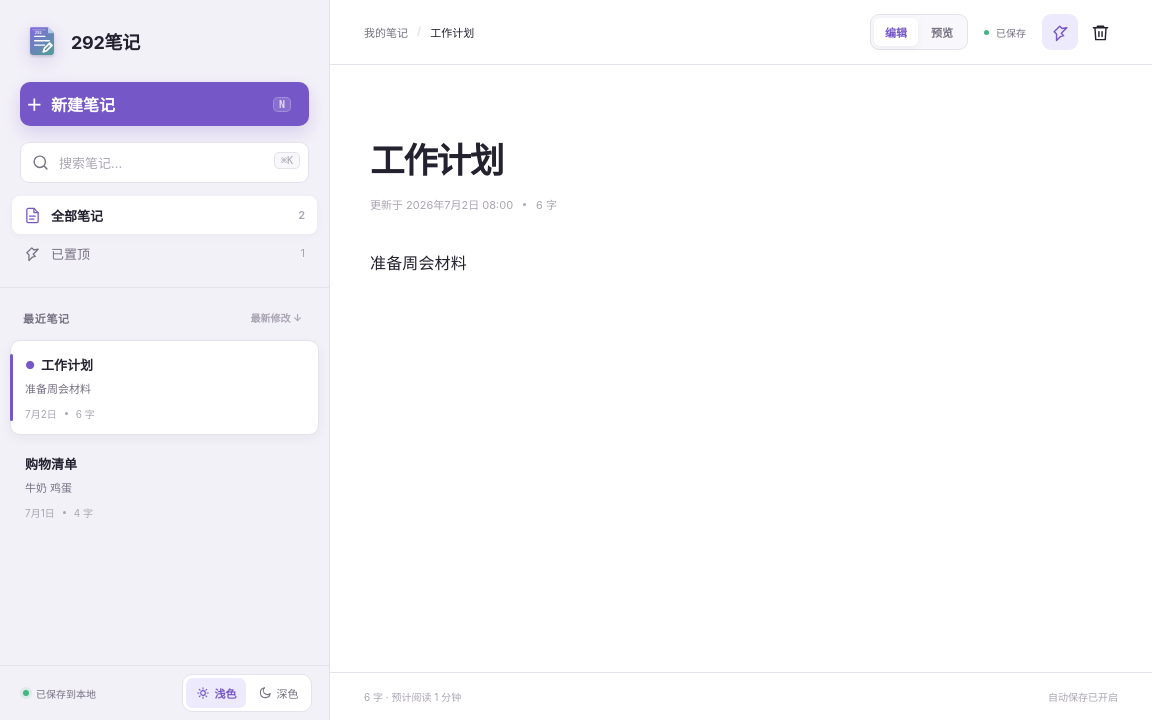
Test case: App › confirms deletion before removing a note
The width and height of the screenshot is (1152, 720).
expect the field showing "工作计划" is shown: met, box [370,139,1112,182]
Click the button named "删除笔记".
click(1100, 32)  # box [1082,14,1118,50]
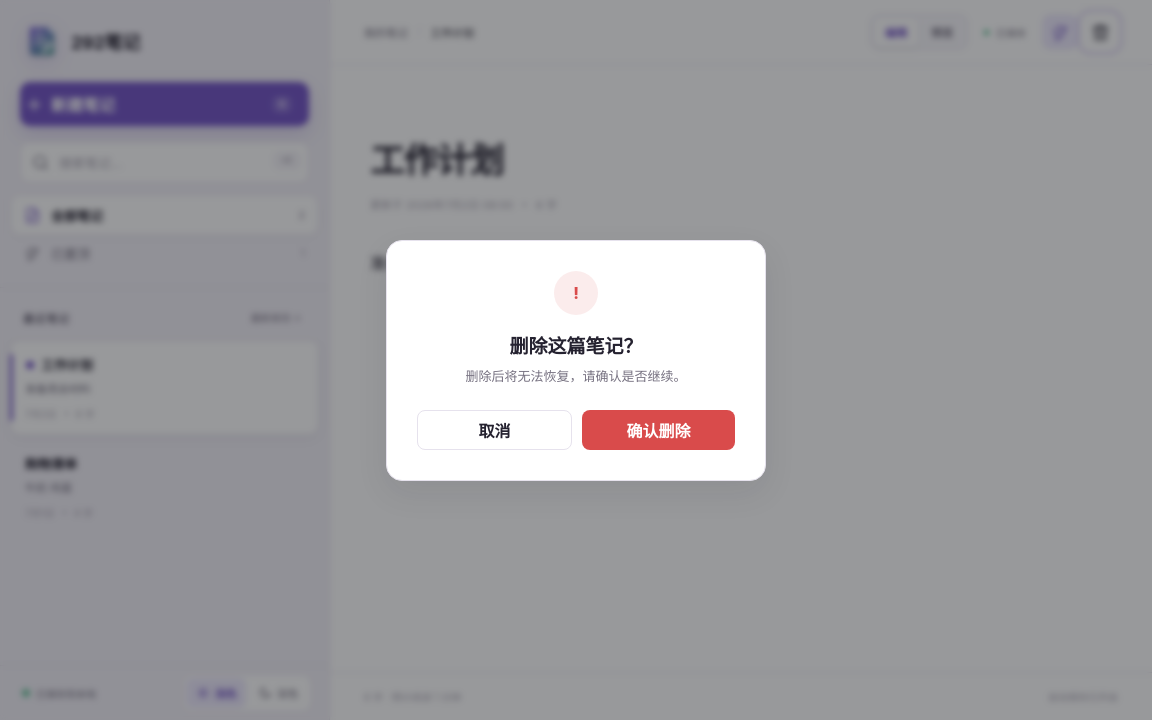
expect the dialog "删除这篇笔记？" is shown: met, box [386,240,766,480]
Click the button "确认删除".
click(658, 430)  # box [582,410,735,450]
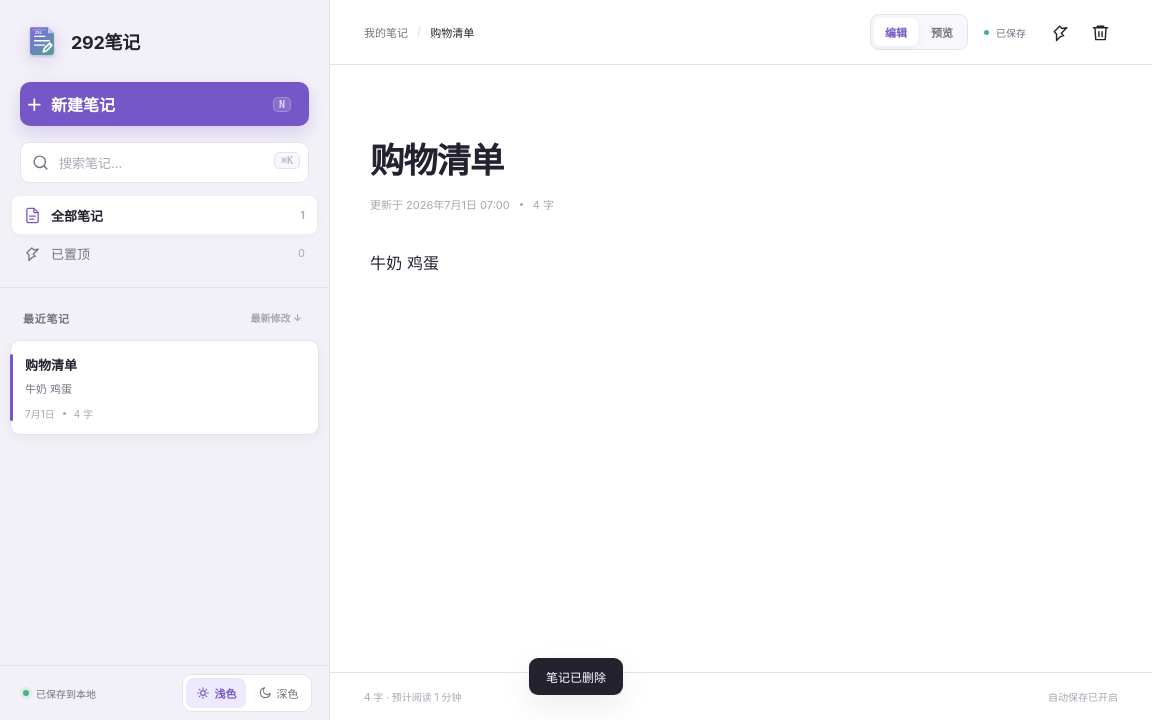
expect the field showing "购物清单" is shown: met, box [370,139,1112,182]
